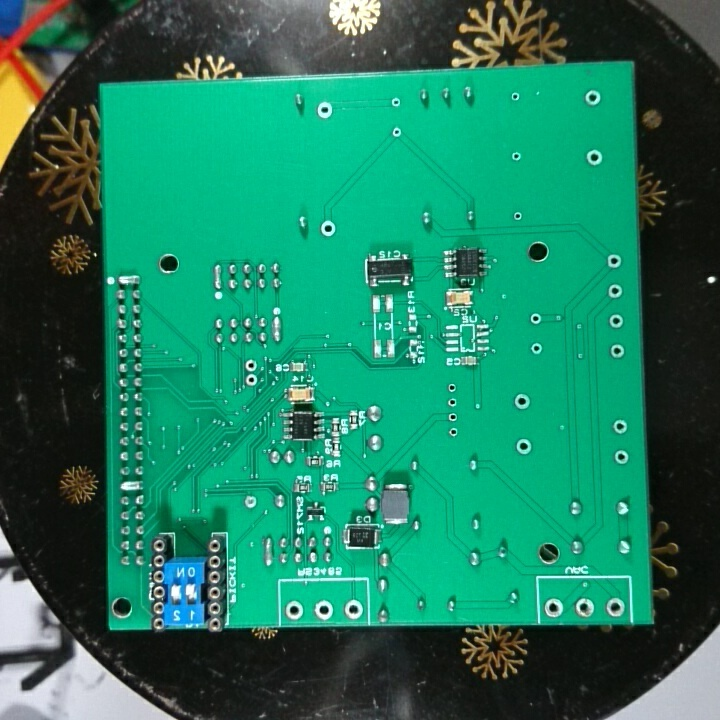F: (312, 597, 338, 621), (283, 598, 306, 624), (573, 594, 597, 618), (342, 597, 365, 622), (604, 595, 628, 618), (582, 86, 604, 110), (603, 251, 626, 273), (605, 341, 629, 362), (610, 416, 632, 438), (605, 311, 628, 332), (604, 280, 627, 301), (543, 598, 567, 618), (513, 435, 533, 459), (583, 147, 604, 169), (313, 100, 336, 120), (512, 392, 534, 412), (612, 449, 633, 469), (318, 218, 337, 240), (241, 493, 261, 512), (241, 372, 260, 391), (527, 310, 545, 328), (529, 339, 546, 358), (507, 88, 524, 106), (387, 94, 404, 111), (390, 122, 404, 142), (445, 409, 462, 425), (446, 423, 463, 439), (243, 356, 259, 373), (509, 149, 525, 164), (510, 208, 524, 225), (444, 396, 461, 409), (445, 380, 459, 395)
P: (259, 535, 275, 572), (209, 261, 224, 292), (117, 480, 146, 495), (115, 272, 142, 287), (270, 315, 284, 343)
